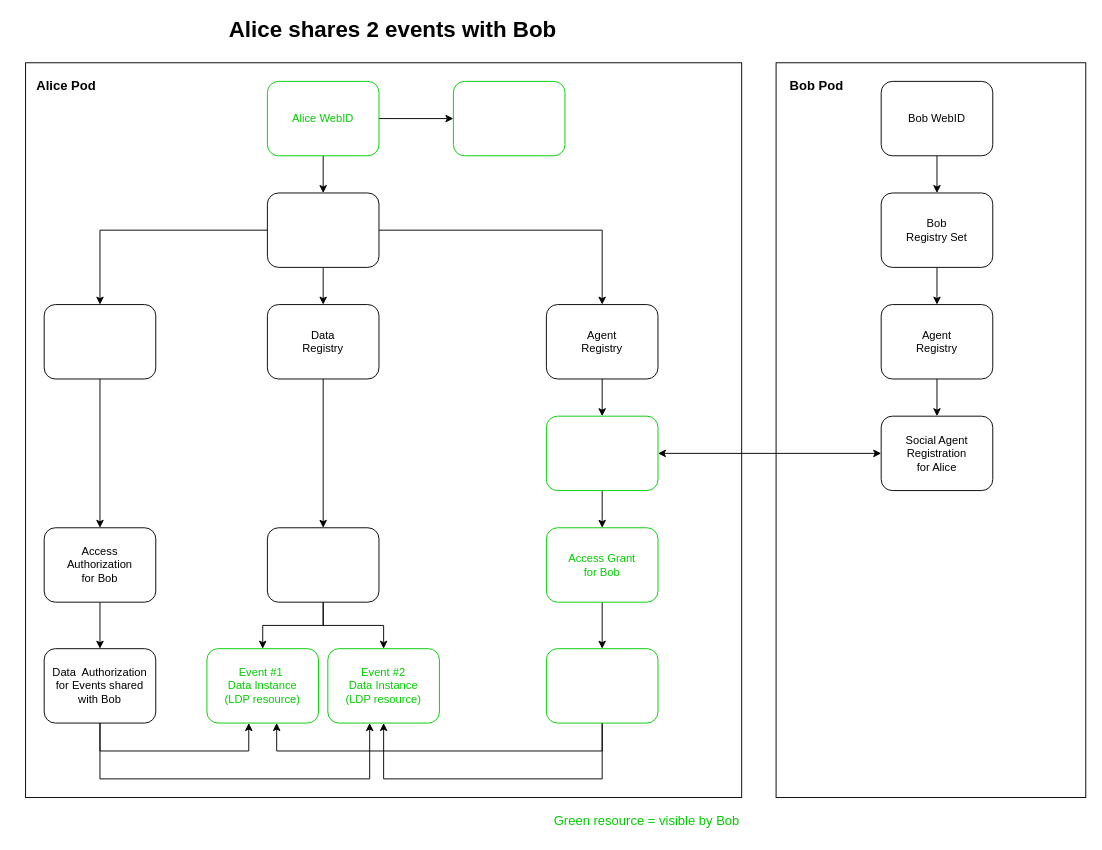
This 1102x850 diagram has some shape labels left out. Here are the shapes that lost their labels. From the top down, the centre of each, then its label:
At pixel 508 118: "Alice Authorization Agent".
At pixel 322 229: "Alice Registry Set".
At pixel 99 341: "Authorization Registry".
At pixel 601 453: "Social Agent Registration for Bob".
At pixel 322 564: "Data Registration for Events shapetree (LDP container)".
At pixel 601 685: "Data Grant for Events shared with Bob".
